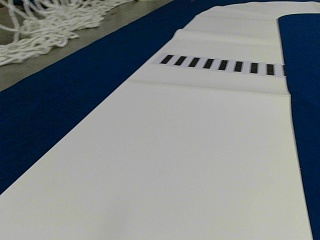crosswalk: (158, 54, 277, 75)
